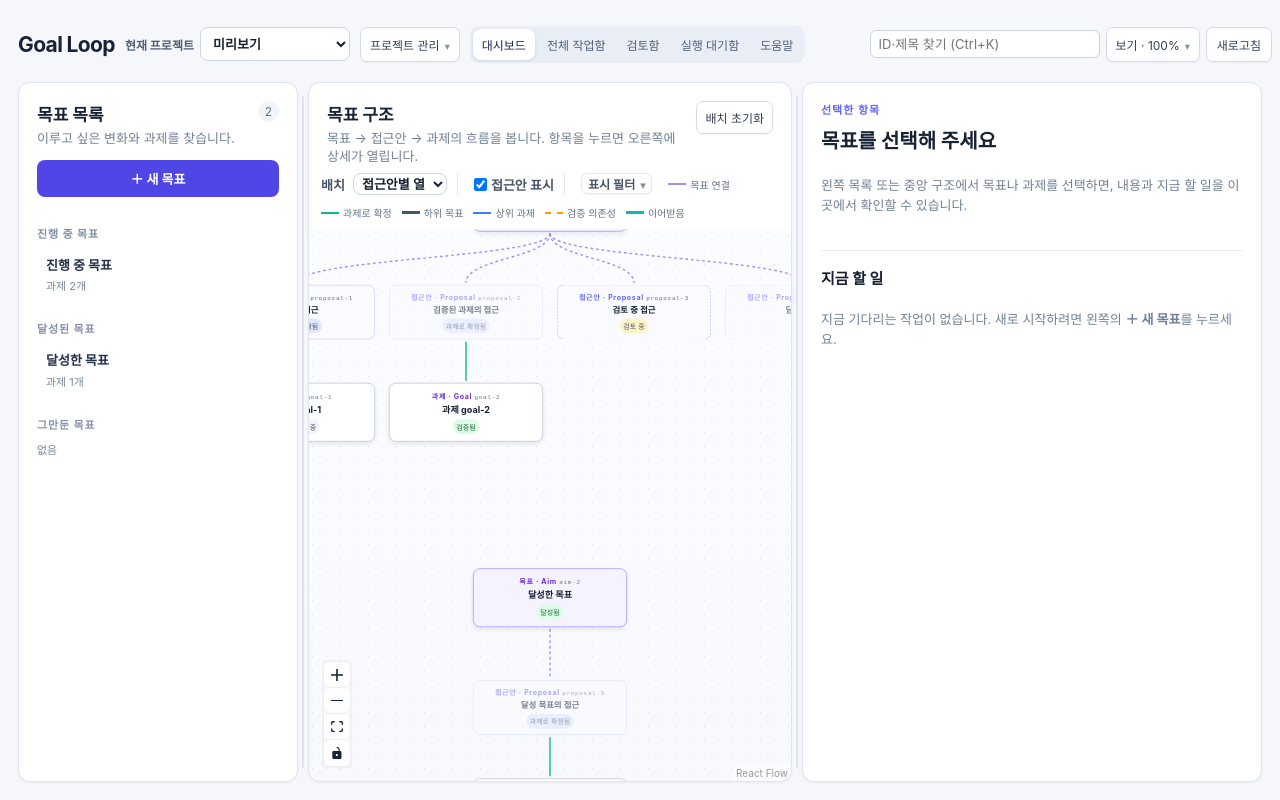
Test: graph controls in the workspace › separates the layout choice from showing Proposals and remembers it on this PC
Click the checkbox labelled "접근안 표시" at coordinates (480, 184), box [474, 178, 487, 191]
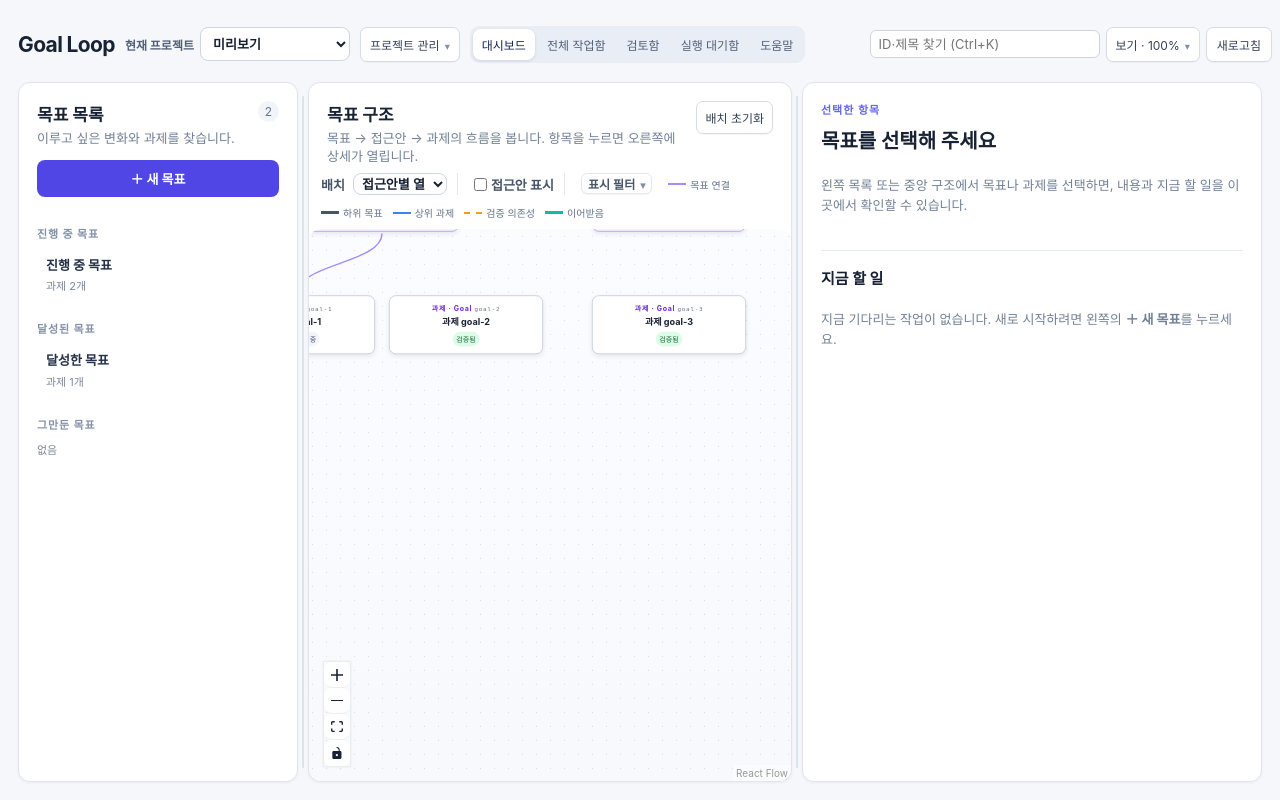
Now the text "proposal-1" is gone
Select "목록" in the dropdown named "그래프 배치" at coordinates (400, 184), box [353, 173, 447, 195]
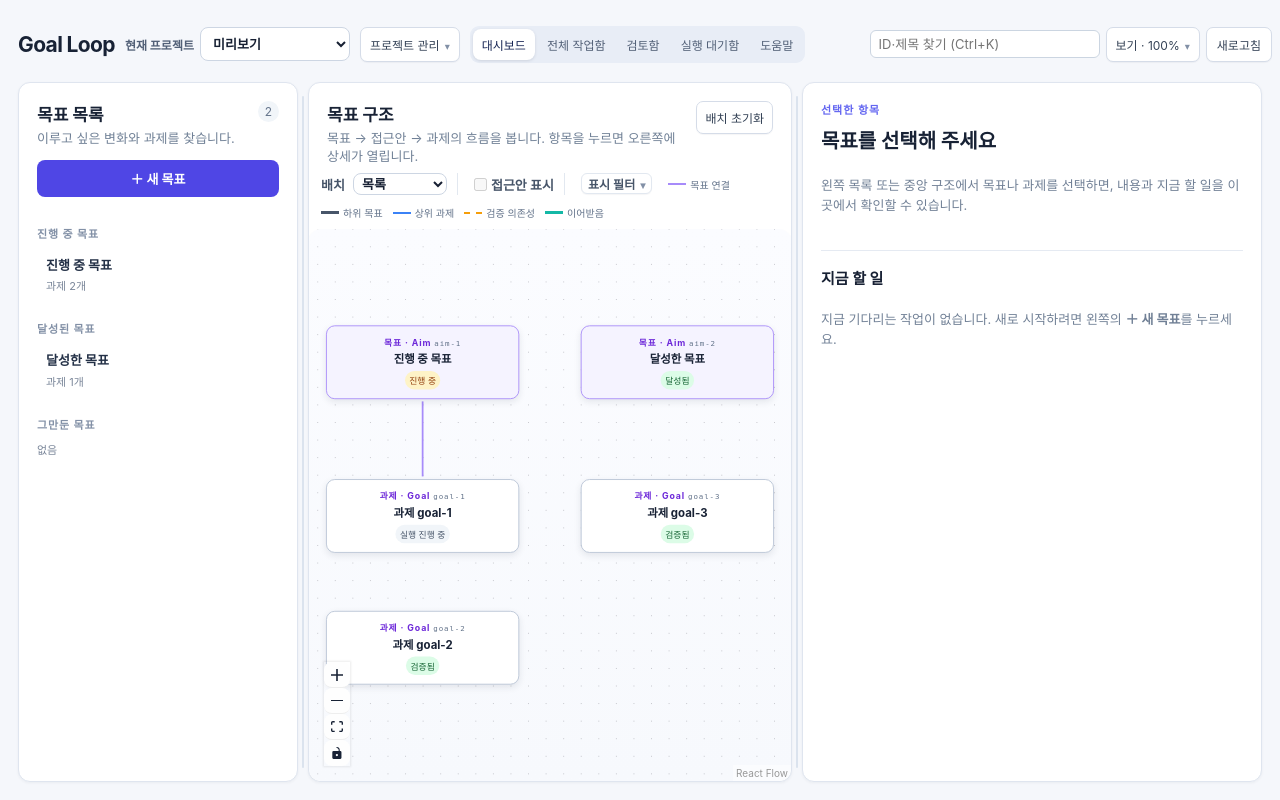
Now the checkbox labelled "접근안 표시" is disabled, box [474, 178, 487, 191]
